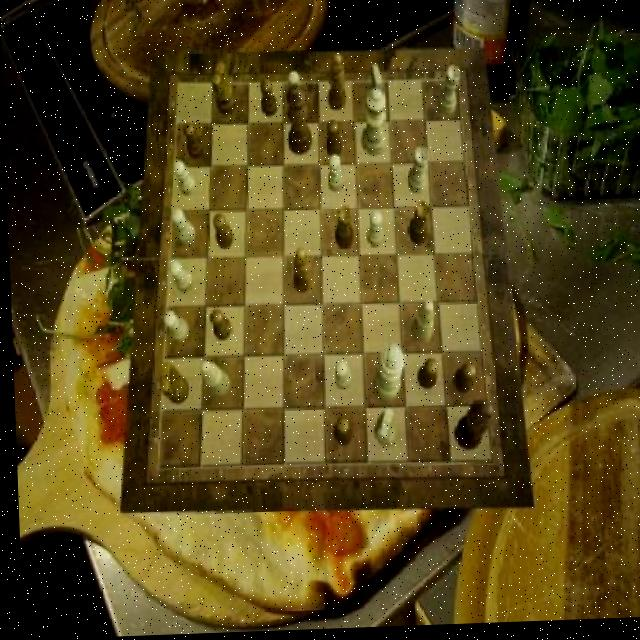bishop: (327, 56, 346, 113), (291, 249, 312, 296)
black-bishop: (451, 403, 492, 455)
black-king: (212, 62, 236, 117), (157, 363, 187, 406)
black-knight: (184, 123, 205, 162), (450, 366, 473, 399), (211, 215, 231, 252), (208, 310, 230, 343), (414, 361, 436, 393), (260, 80, 278, 119), (324, 122, 341, 160), (331, 420, 350, 449)
black-pawn: (286, 85, 313, 158)
black-queen: (406, 203, 431, 248), (333, 208, 353, 253)
black-rook: (199, 360, 229, 398), (409, 303, 433, 346)
white-bishop: (370, 346, 404, 404)
white-king: (364, 69, 384, 120), (371, 411, 394, 449)
white-knight: (171, 210, 195, 247), (161, 312, 187, 345), (166, 262, 191, 296), (171, 162, 195, 197), (287, 74, 304, 115), (326, 156, 344, 194), (365, 214, 383, 250), (331, 363, 349, 392)
white-pawn: (360, 92, 388, 159)
white-queen: (434, 68, 460, 118), (405, 151, 429, 197)
